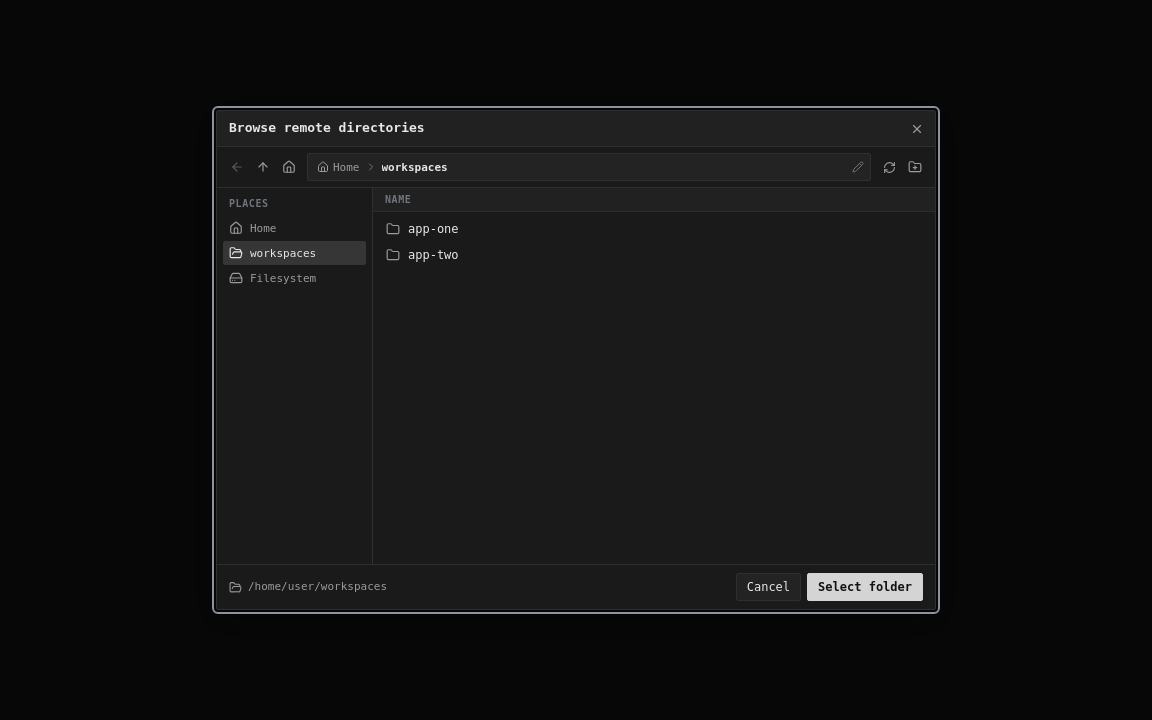
it: RemoteDirectoryChooser › Escape leaves location editing before closing the chooser
The width and height of the screenshot is (1152, 720).
Check: the option "app-one" is shown, box x1=377 y1=216 x2=931 y2=242
Click the button named "Type a location" at coordinates (858, 167), box x1=848 y1=157 x2=868 y2=177
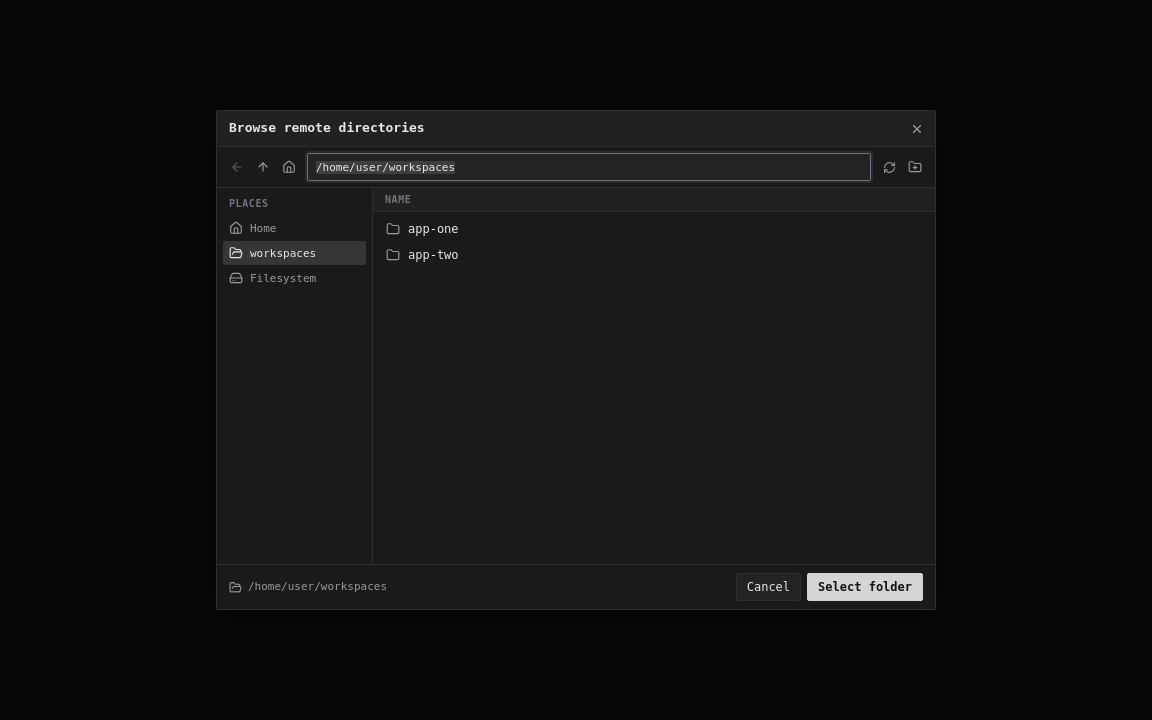
Press Escape in the field named "Location", box x1=307 y1=153 x2=871 y2=181
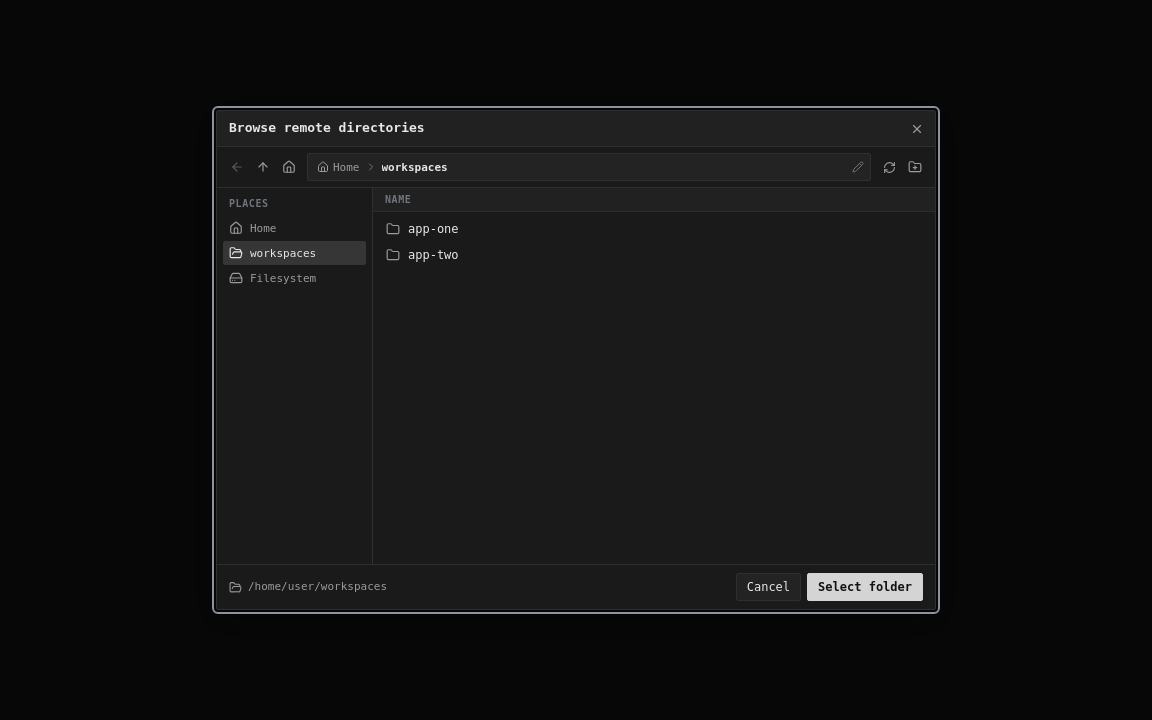
Check: the field labelled "Location" is gone
